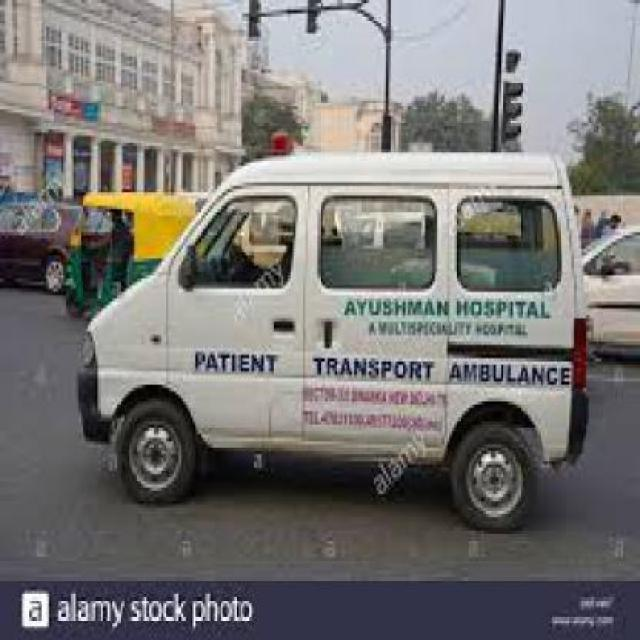Ambulance: (0, 276, 638, 581), (60, 188, 211, 322), (0, 189, 120, 297), (578, 222, 638, 364)
